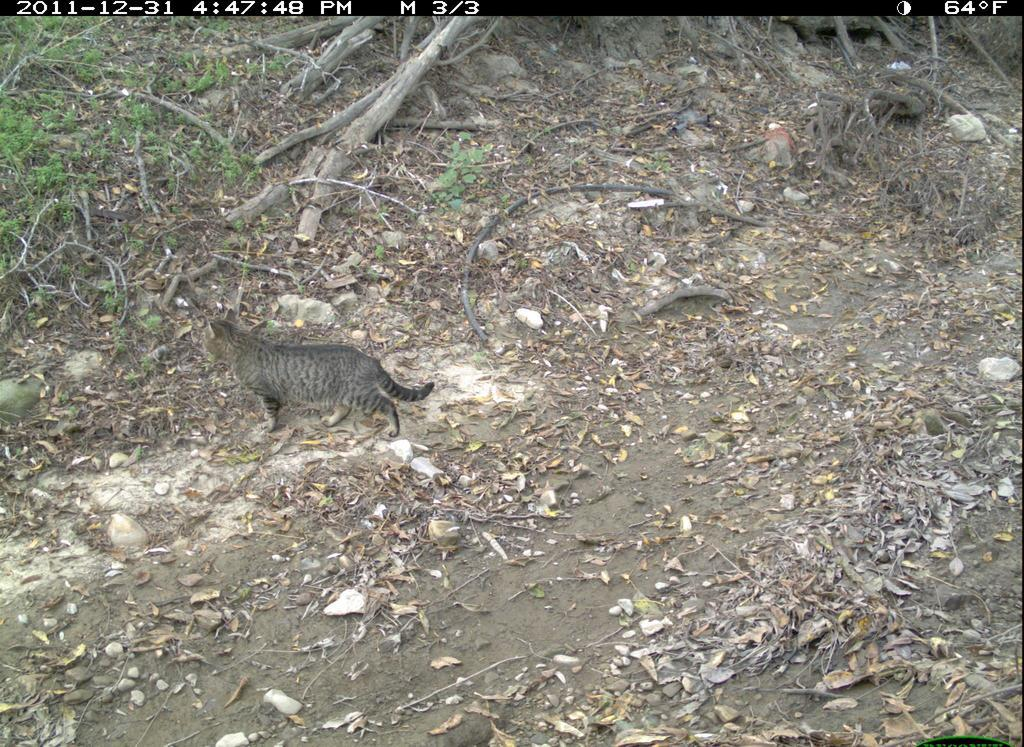cat: (195, 306, 445, 457)
